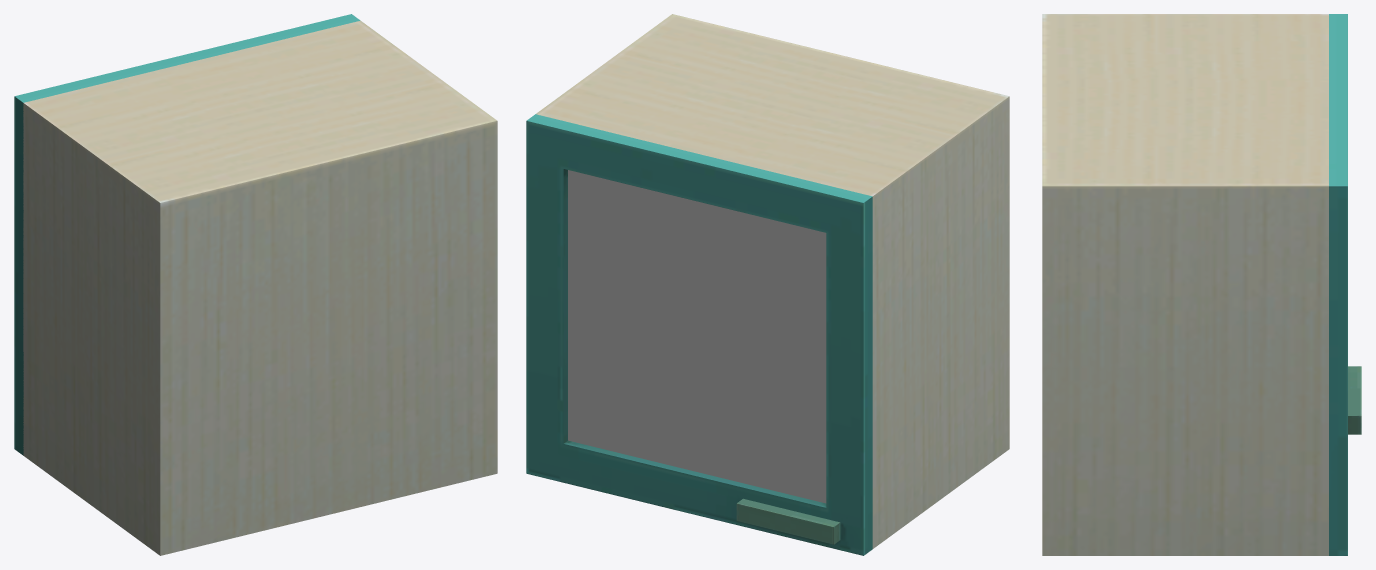
Rendered from furni_0200519_02.FBX.
3 renders of one model, left to right at view 1: azimuth 30°, elevation 25°; view 2: azimuth 150°, elevation 25°; view 3: azimuth 270°, elevation 25°, orthographic. The views are drawn at different scales.
Visible parts, largest first — view 1: furni_0200519_02; view 2: furni_0200519_02; view 3: furni_0200519_02.
Part boxes in pixels (x1=…): furni_0200519_02: x1=14, y1=14, x2=497, y2=555; furni_0200519_02: x1=526, y1=14, x2=1009, y2=555; furni_0200519_02: x1=1042, y1=14, x2=1361, y2=555.
Size of the model in its own units: 80 by 80 by 63.4.
